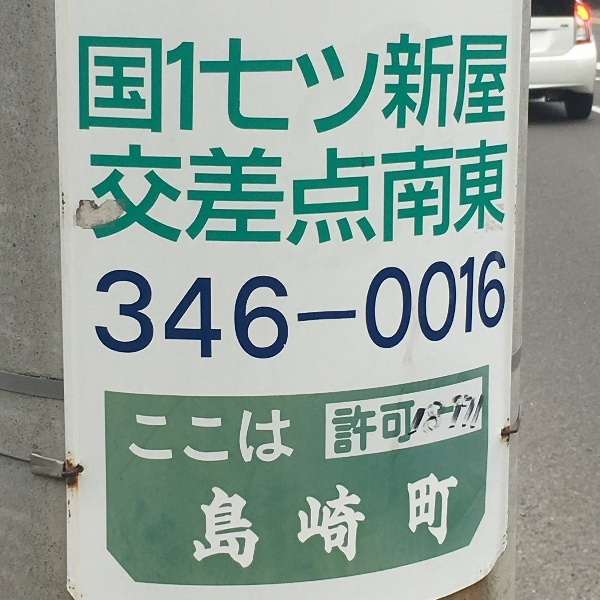text: (97, 138, 112, 254), (113, 138, 128, 254), (129, 138, 144, 254), (145, 138, 160, 254), (161, 138, 176, 254), (177, 138, 192, 254), (193, 138, 208, 254), (209, 138, 224, 254), (225, 138, 240, 254), (241, 138, 256, 254), (257, 138, 272, 254), (273, 138, 288, 254), (289, 138, 304, 254), (305, 138, 320, 254), (321, 138, 336, 254), (337, 138, 352, 254), (353, 138, 368, 254), (369, 138, 384, 254), (385, 138, 400, 254), (401, 138, 416, 254), (417, 138, 432, 254), (433, 138, 448, 254), (449, 138, 464, 254), (465, 138, 480, 254), (481, 138, 496, 254), (97, 250, 112, 361), (113, 250, 128, 361), (129, 250, 144, 361), (145, 250, 160, 361), (161, 250, 176, 361), (177, 250, 192, 361), (193, 250, 208, 361), (209, 250, 224, 361), (225, 250, 240, 361), (241, 250, 256, 361), (257, 250, 272, 361), (273, 250, 288, 361), (289, 250, 304, 361), (305, 250, 320, 361), (321, 250, 336, 361), (337, 250, 352, 361), (353, 250, 368, 361), (369, 250, 384, 361), (385, 250, 400, 361), (401, 250, 416, 361), (417, 250, 432, 361), (433, 250, 448, 361), (449, 250, 464, 361), (465, 250, 480, 361), (481, 250, 496, 361), (193, 466, 208, 576), (209, 466, 224, 576), (225, 466, 240, 576), (241, 466, 256, 576), (257, 466, 272, 576), (273, 466, 288, 576), (289, 466, 304, 576), (305, 466, 320, 576), (321, 466, 336, 576), (337, 466, 352, 576), (353, 466, 368, 576), (369, 466, 384, 576), (385, 466, 400, 576), (401, 466, 416, 576), (417, 466, 432, 576), (433, 466, 448, 576), (81, 30, 96, 138), (97, 30, 112, 138), (113, 30, 128, 138), (129, 30, 144, 138), (145, 30, 160, 138), (161, 30, 176, 138), (177, 30, 192, 138), (193, 30, 208, 138), (209, 30, 224, 138), (225, 30, 240, 138), (241, 30, 256, 138), (257, 30, 272, 138), (273, 30, 288, 138), (289, 30, 304, 138), (305, 30, 320, 138), (321, 30, 336, 138), (337, 30, 352, 138), (353, 30, 368, 138), (369, 30, 384, 138), (385, 30, 400, 138), (401, 30, 416, 138), (417, 30, 432, 138), (433, 30, 448, 138), (449, 30, 464, 138), (465, 30, 480, 138), (481, 30, 496, 138), (497, 30, 511, 138), (497, 138, 509, 254), (449, 466, 460, 576), (497, 250, 507, 361), (129, 407, 144, 470), (145, 407, 160, 470), (161, 407, 176, 470), (177, 407, 192, 470), (193, 407, 208, 470), (209, 407, 224, 470), (225, 407, 240, 470), (241, 407, 256, 470), (257, 407, 272, 470), (273, 407, 288, 470), (337, 399, 352, 458), (353, 399, 368, 458), (369, 399, 384, 458), (385, 399, 400, 458), (401, 399, 415, 458), (90, 138, 96, 254), (289, 407, 295, 470), (77, 30, 80, 138), (333, 399, 336, 458), (95, 250, 96, 361)
